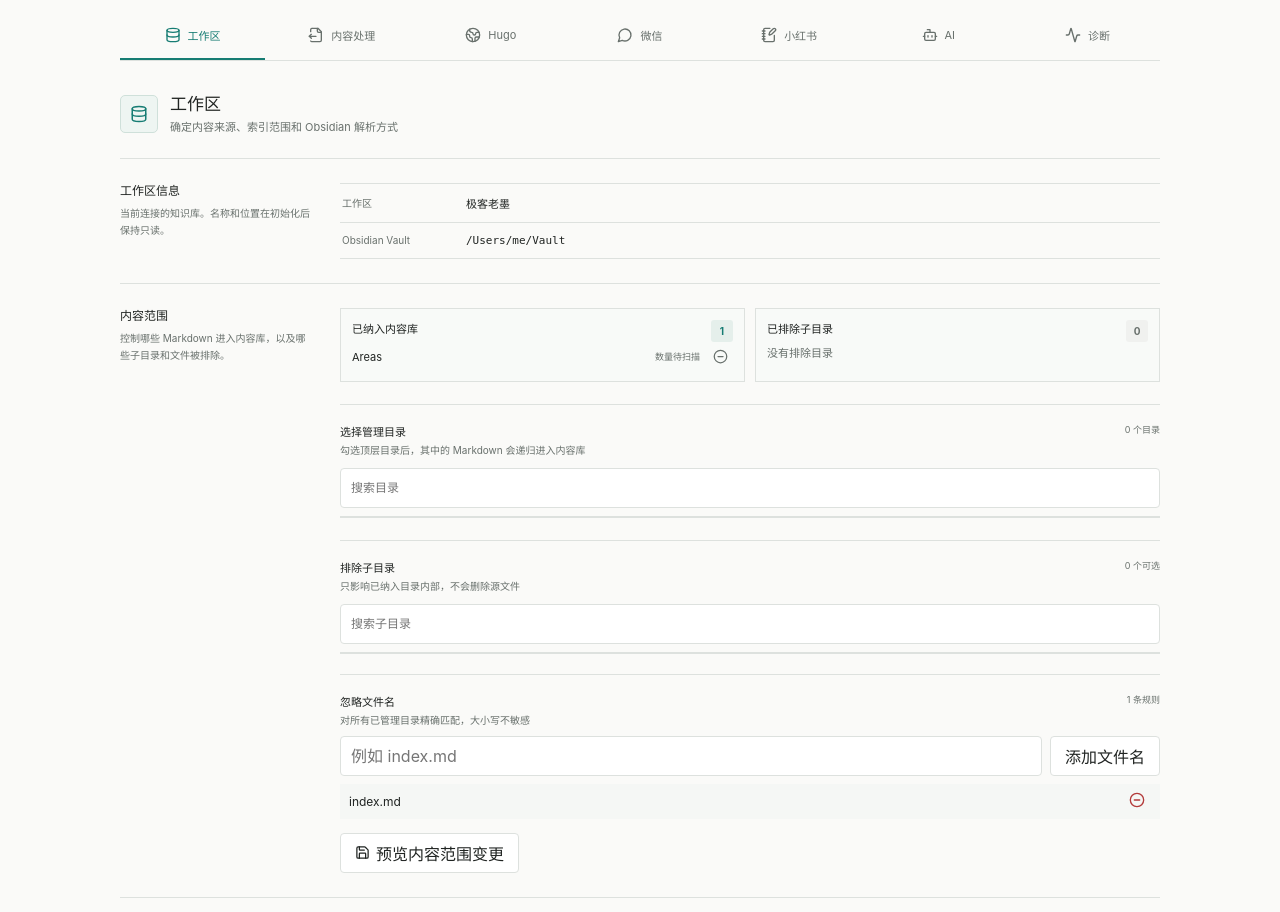
Test: 内容处理设置支持添加和删除多个排除章节
This screenshot has width=1280, height=912.
Expected: the text "极客老墨" is shown, x1=466 y1=197 x2=510 y2=211
Step 1. Click the tab "内容处理" → click(342, 36), box x1=269 y1=12 x2=414 y2=60
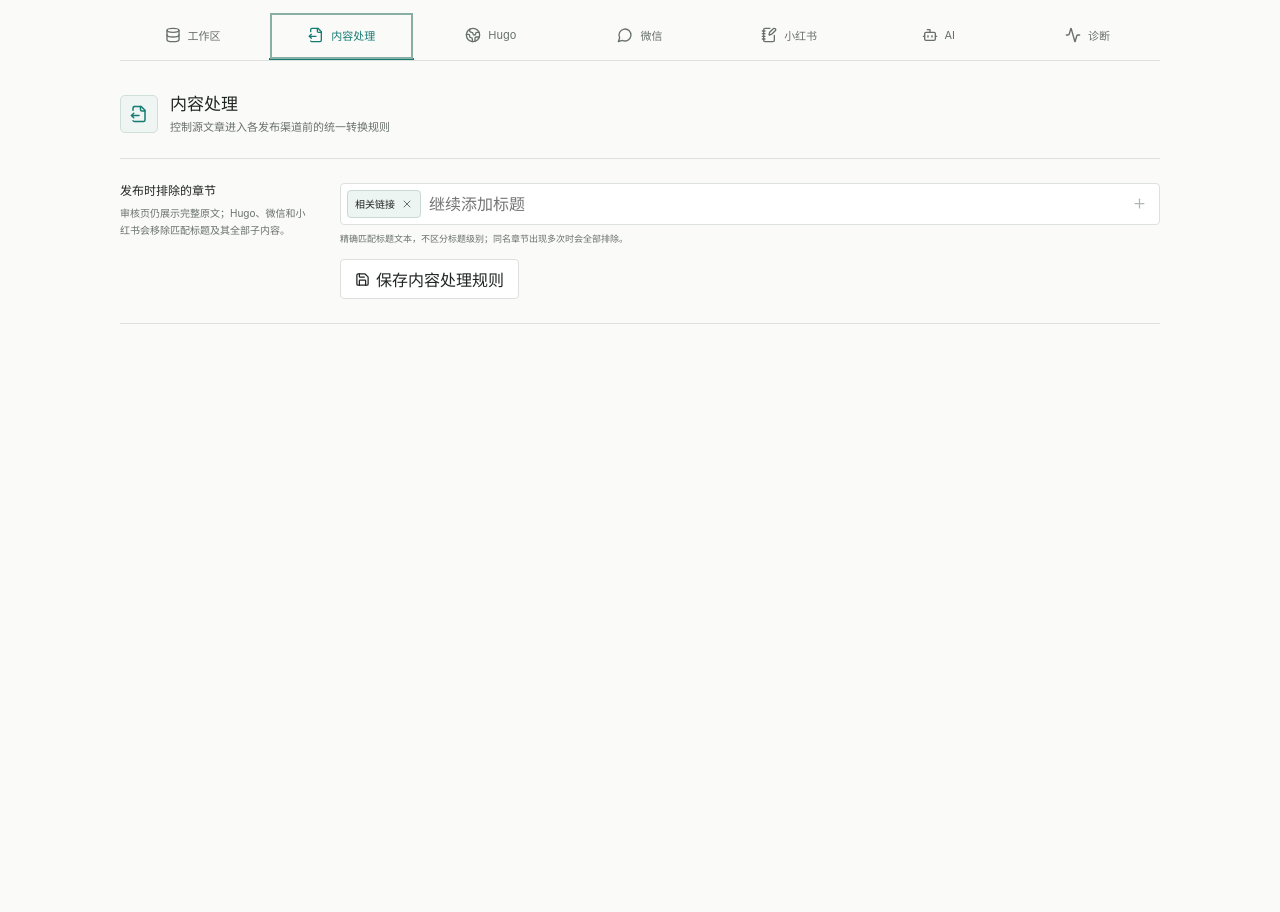
Result: the text "相关链接" is shown at x1=355 y1=196 x2=395 y2=211
Step 2. Type "参考资料" into the field named "新增排除章节标题" → (773, 204), box x1=426 y1=190 x2=1120 y2=218
Then press Enter
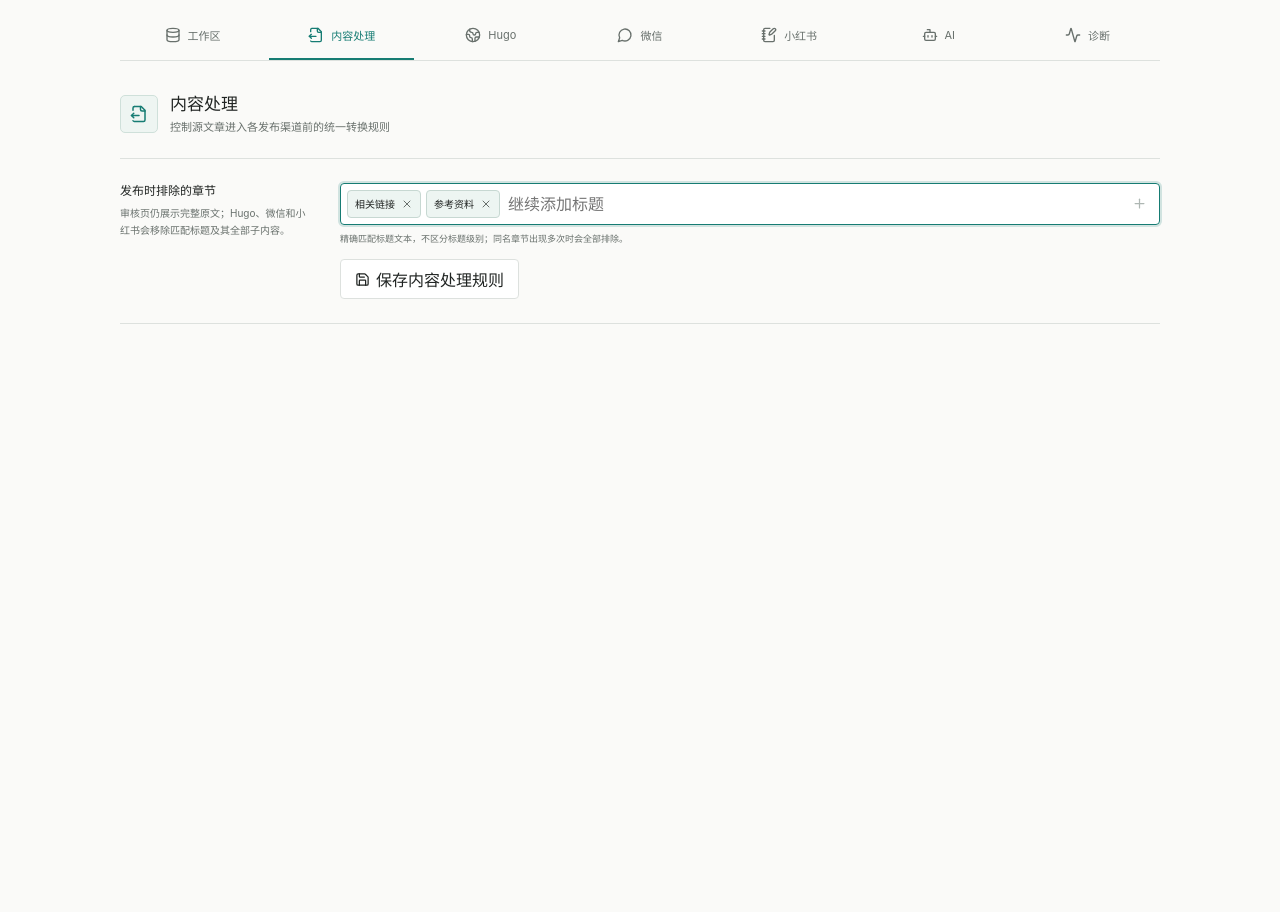
Step 3. Click the button "保存内容处理规则" → click(430, 279), box x1=340 y1=259 x2=519 y2=299
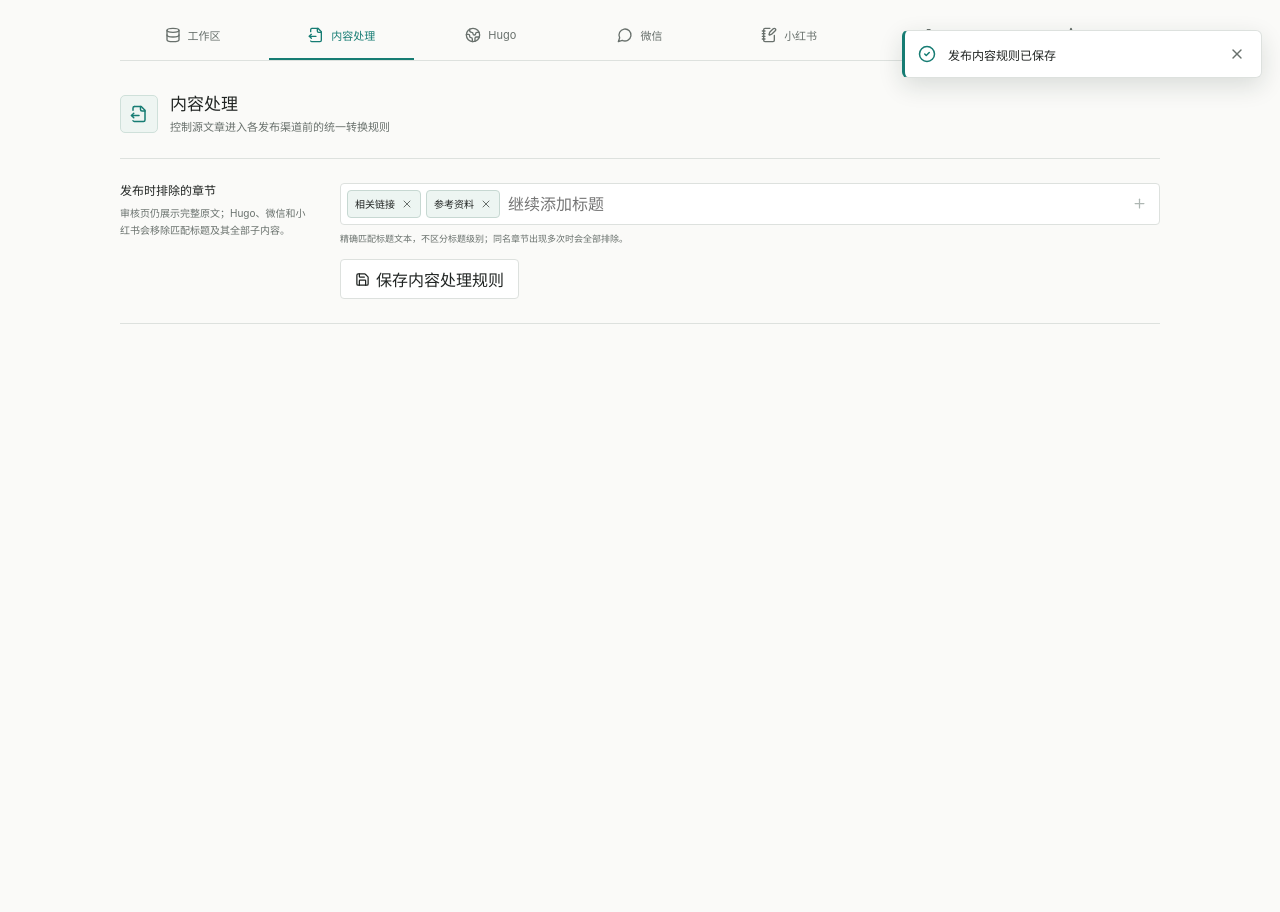
Result: the message reads "发布内容规则已保存" at x1=948 y1=48 x2=1056 y2=62
